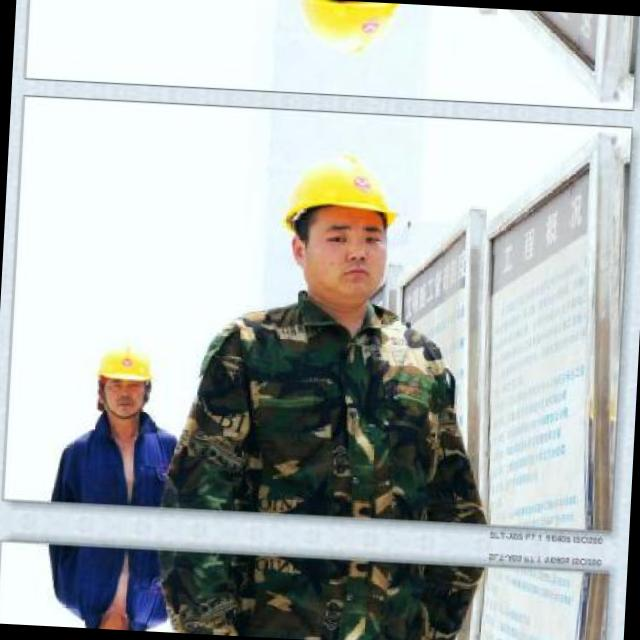helmet: (264, 135, 414, 319), (276, 0, 421, 70), (88, 331, 157, 427)
